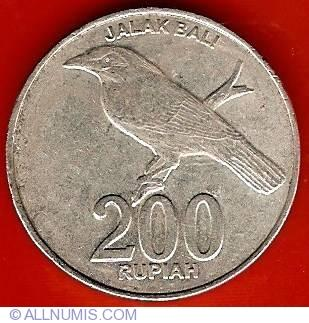coin_200_e2003: (4, 5, 304, 302)
